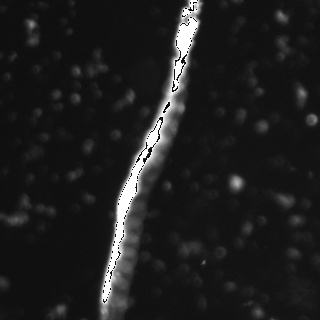embryo: (109, 275, 130, 307), (112, 260, 134, 290), (114, 248, 138, 274), (125, 201, 147, 229), (162, 73, 190, 95), (135, 171, 159, 196), (117, 233, 140, 258), (123, 217, 144, 243), (142, 156, 163, 182), (150, 139, 170, 164), (166, 104, 185, 128), (158, 124, 177, 144), (170, 88, 187, 109)
